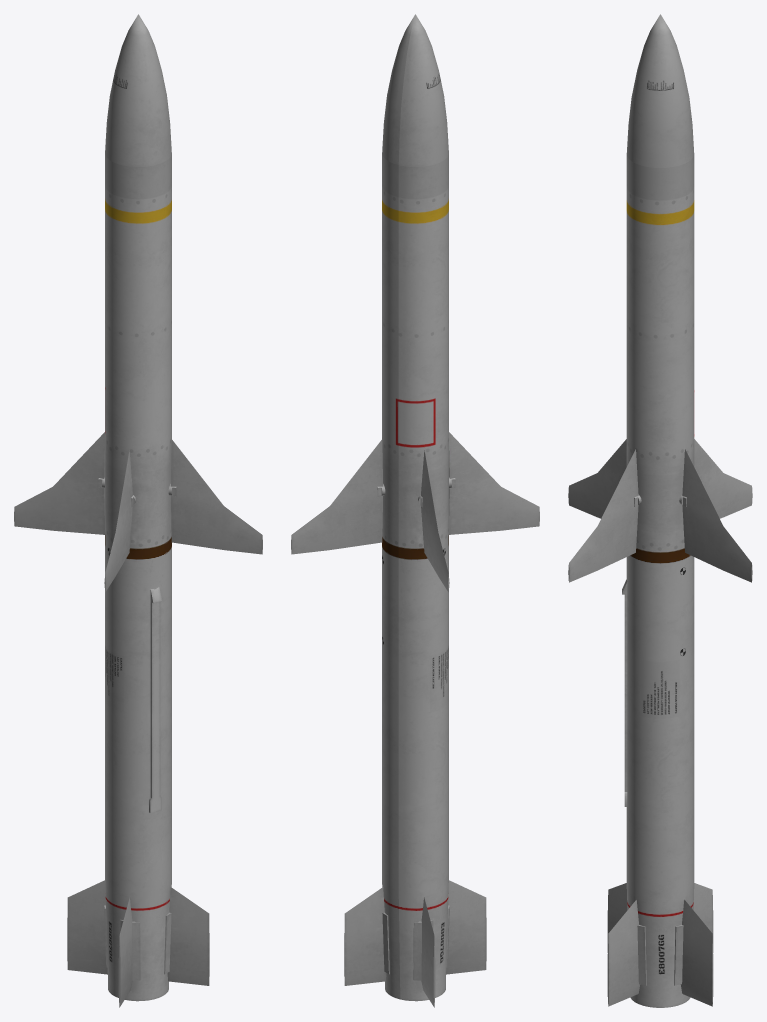
3 views of the same model, side by side, from view 1: azimuth 30°, elevation 25°; view 2: azimuth 150°, elevation 25°; view 3: azimuth 270°, elevation 25° (orthographic).
Visible parts, largest first — view 1: AIM120; view 2: AIM120; view 3: AIM120.
Part boxes in pixels (left/top/right/bottom): AIM120: left=14, top=14, right=262, bottom=1007; AIM120: left=291, top=14, right=539, bottom=1007; AIM120: left=568, top=14, right=752, bottom=1007.
Size of the model in its own units: 0.6204 by 3.64 by 0.6204.
2 materials, 1 textured.
